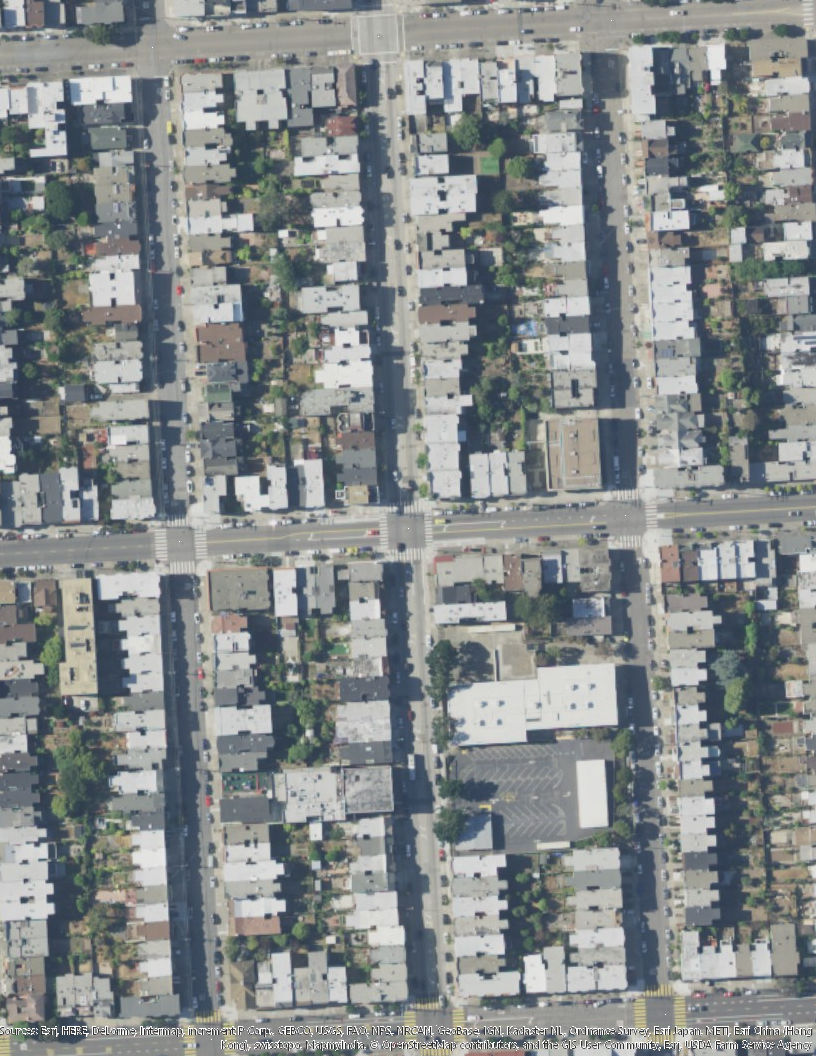zebracross: (388, 500, 426, 516), (412, 995, 444, 1012), (196, 1009, 228, 1025), (152, 530, 169, 560), (169, 559, 196, 576), (389, 548, 424, 561), (645, 983, 675, 998), (195, 529, 209, 561), (633, 998, 647, 1029), (672, 996, 687, 1024), (644, 502, 659, 528), (616, 535, 642, 549), (617, 486, 639, 501), (379, 514, 388, 549), (166, 514, 188, 528), (425, 515, 435, 545), (804, 1, 816, 26), (451, 1005, 465, 1025), (184, 1037, 196, 1056), (1, 1035, 11, 1056), (405, 1010, 416, 1022)
